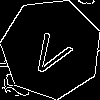V: (26, 23, 79, 80)
